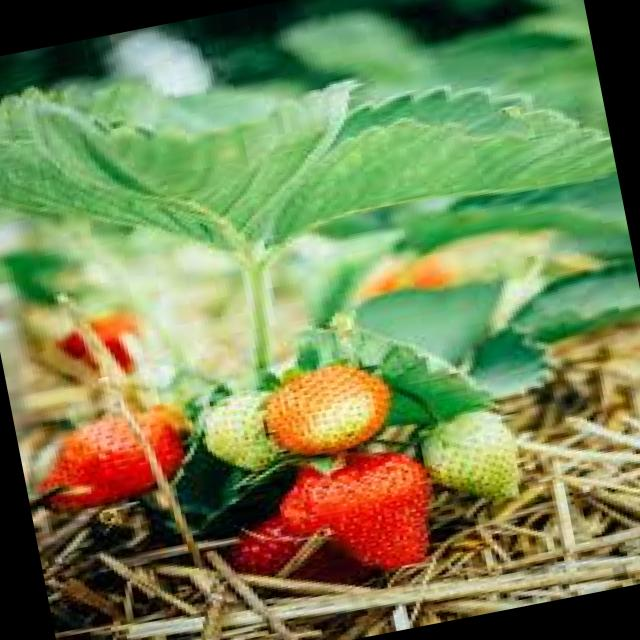strawberry: (260, 432, 461, 594)
